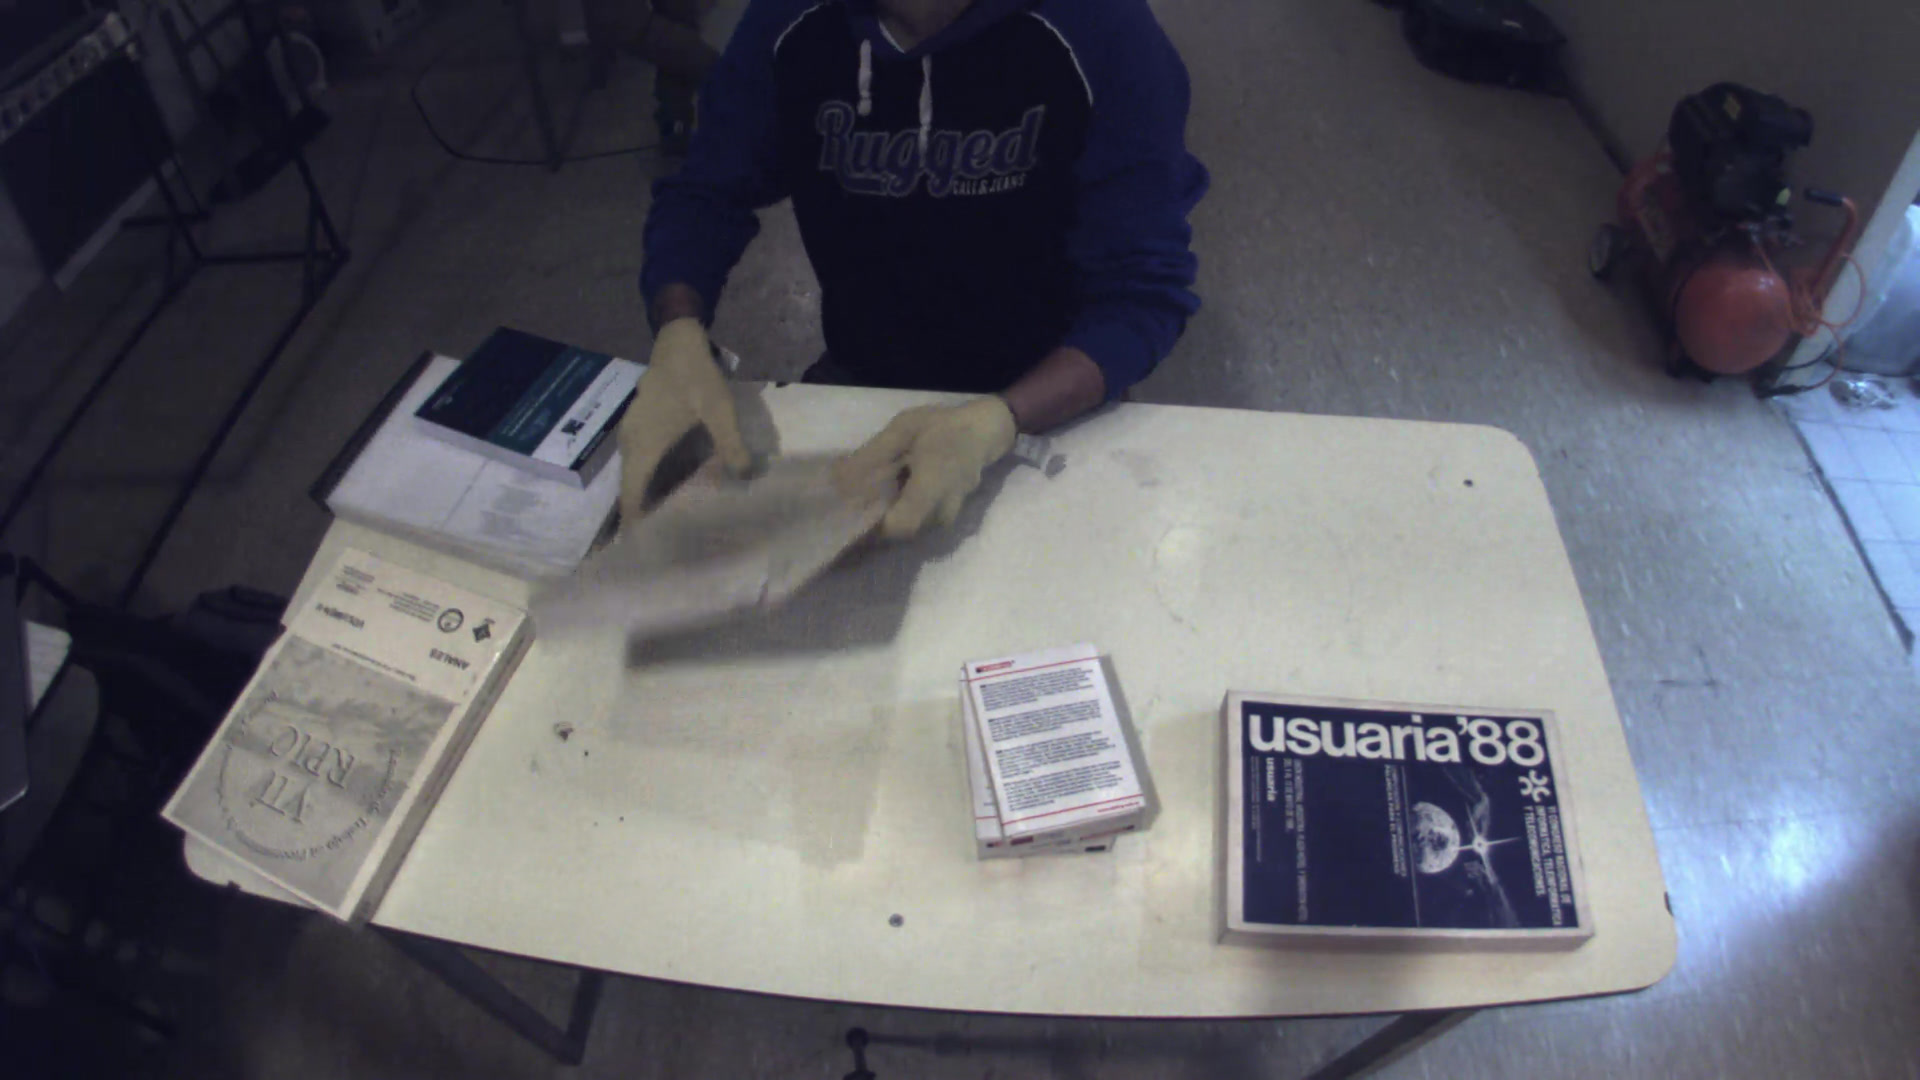hand: (822, 377, 1033, 542), (611, 313, 752, 527)
